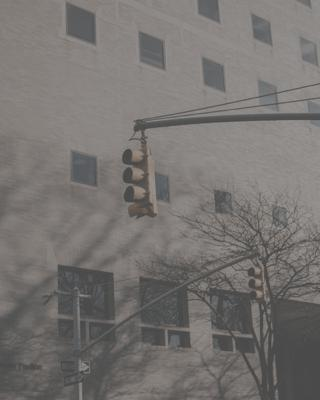International Road Signal Light: (120, 143, 157, 219), (247, 265, 263, 302)
